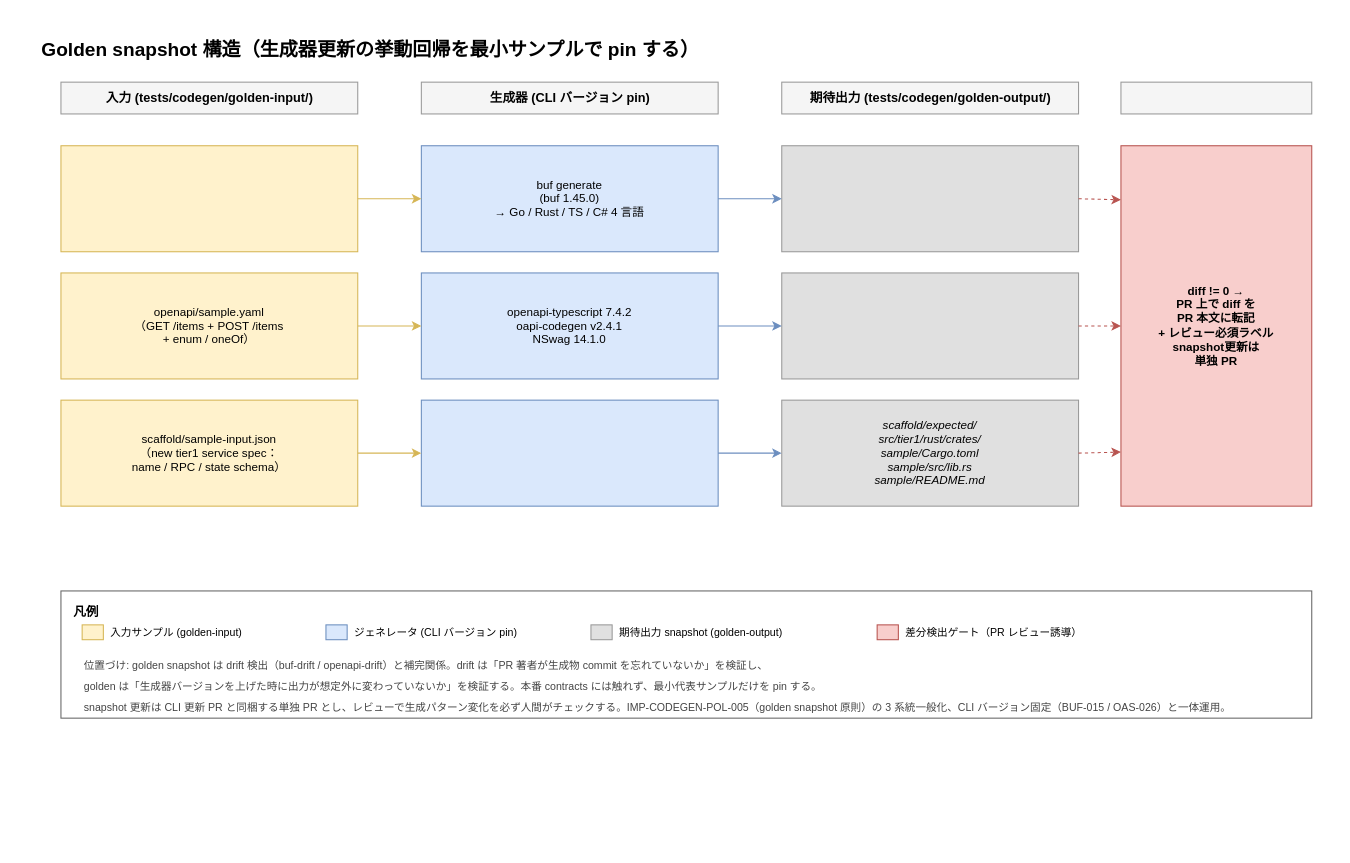
This 1350x863 diagram has some shape labels left out. The shapes that lost their labels are listed below. From the top down, each one's box as (x1, y1, x2, y2) in pixels, then its label:
(1120, 81, 1312, 114): 差分検出時の挙動
(60, 145, 358, 252): proto/sample.proto （greeter + 1 unary RPC + nested message）
(781, 145, 1079, 252): proto/expected/ go/sample.pb.go rust/sample.rs ts/sample_pb.ts csharp/Sample.cs
(781, 272, 1079, 379): openapi/expected/ ts/sample.d.ts go/sample_gen.go csharp/SampleClient.cs
(420, 399, 718, 506): k1s0 scaffold tier1-service (自作 Rust CLI、リポジトリ HEAD)
